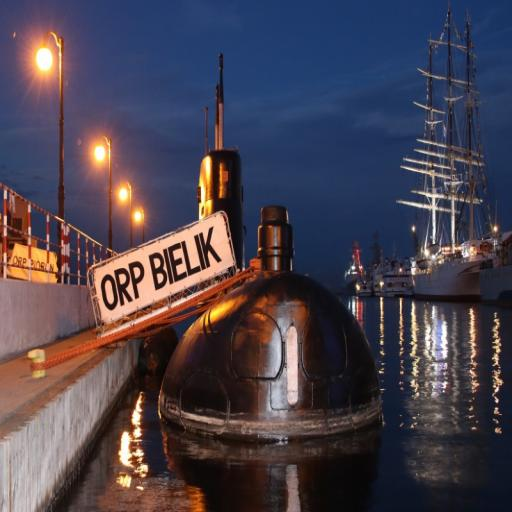submarine: (161, 44, 386, 451)
